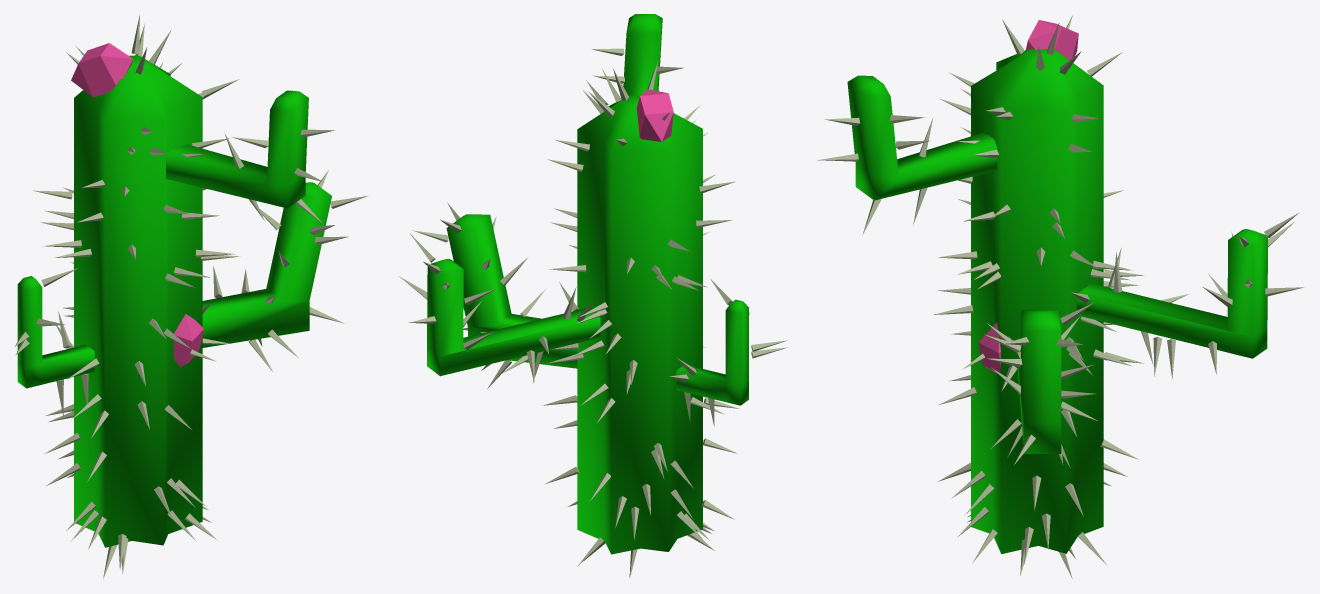
Rendered from tree_cactus.glb.
3 views of the same model, side by side, from view 1: azimuth 30°, elevation 25°; view 2: azimuth 150°, elevation 25°; view 3: azimuth 270°, elevation 25° (orthographic). The views are drawn at different scales.
Parts seen in each view (by area): view 1: body, branch, leaf, fruit; view 2: body, branch, leaf, fruit; view 3: body, branch, leaf, fruit.
Boxes of the visible parts, bbox=[...] form: body: bbox=[74, 55, 202, 547]; branch: bbox=[17, 90, 331, 388]; leaf: bbox=[14, 14, 368, 579]; fruit: bbox=[71, 43, 203, 366]; body: bbox=[577, 95, 702, 554]; branch: bbox=[427, 14, 748, 405]; leaf: bbox=[399, 48, 787, 578]; fruit: bbox=[636, 89, 673, 141]; body: bbox=[971, 48, 1103, 553]; branch: bbox=[847, 75, 1267, 453]; leaf: bbox=[817, 15, 1303, 578]; fruit: bbox=[978, 20, 1078, 372].
Bounding box in the file's own units: 1.16 × 1.64 × 1.31.
